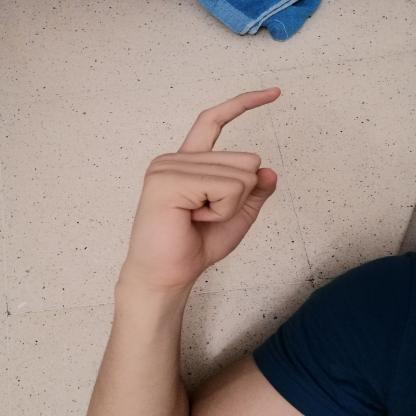RAA: (110, 74, 300, 290)
